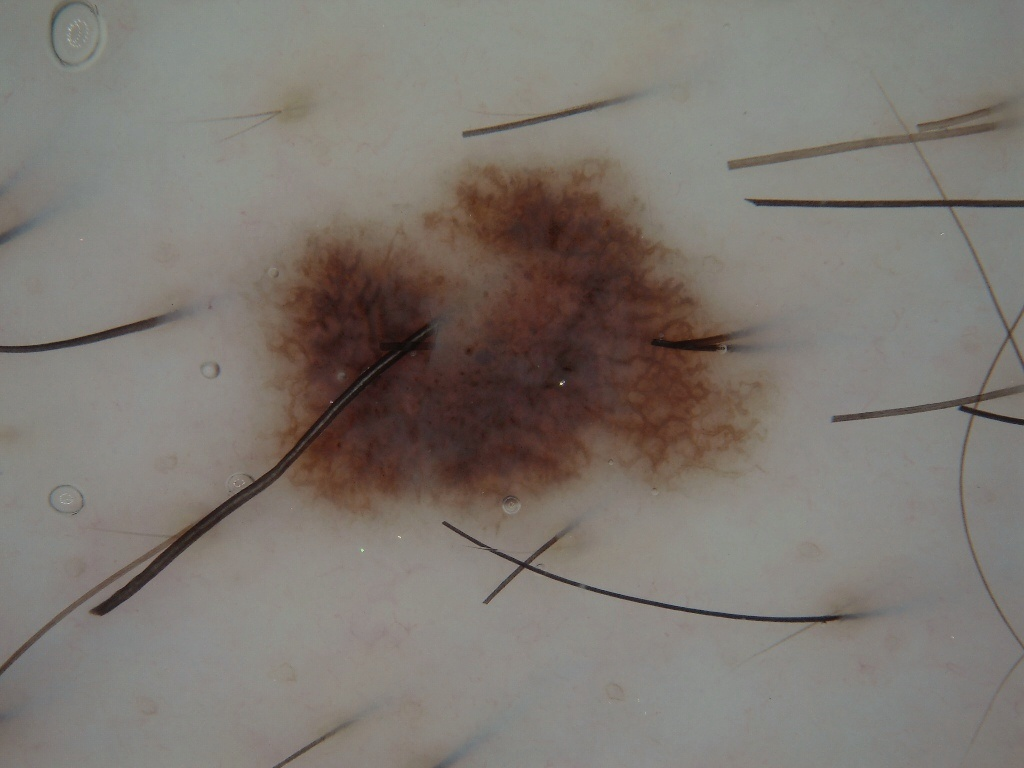Detected Lesion: (254, 156, 783, 524)
